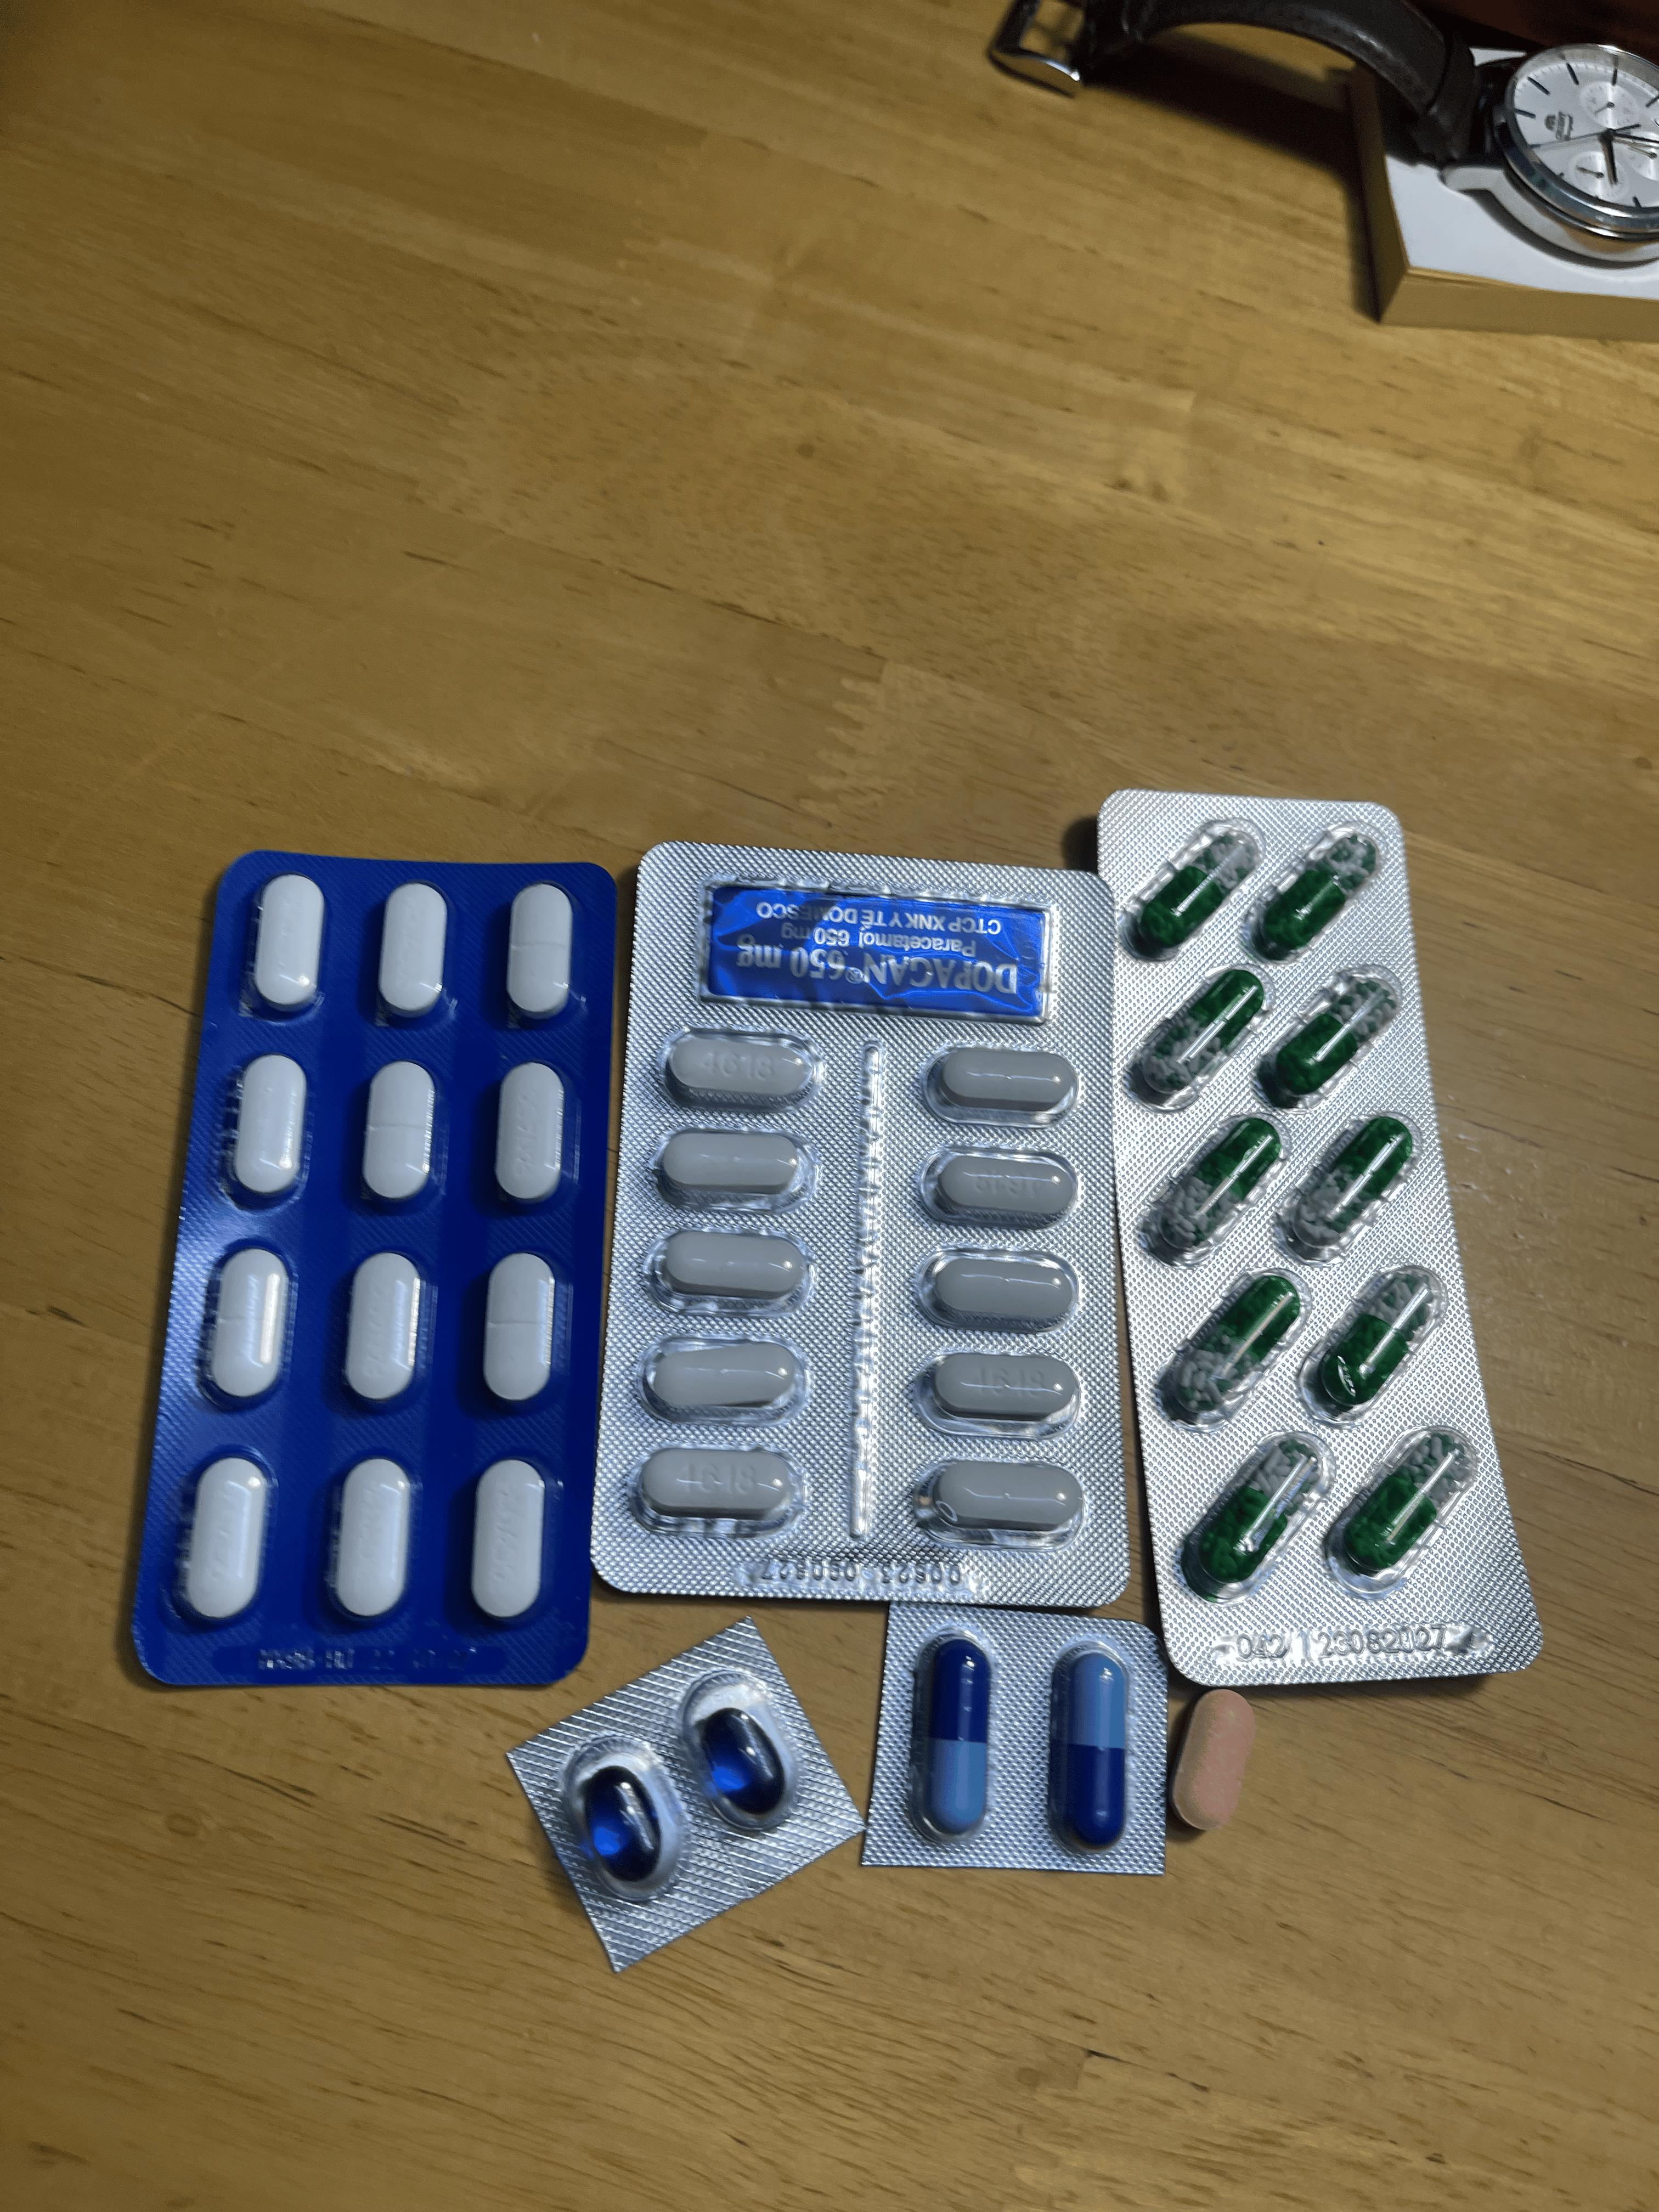Lincomyxin_500mg: (582, 1766, 664, 1878), (699, 1707, 786, 1811)
Loratadine_10mg: (1173, 1689, 1255, 1831)
Paracetamol_350mg: (179, 1454, 272, 1625), (328, 1456, 415, 1623), (202, 1245, 291, 1406), (343, 1252, 427, 1409), (469, 1458, 547, 1623), (481, 1252, 559, 1406), (228, 1054, 308, 1202), (361, 1061, 439, 1207), (493, 1062, 570, 1207), (251, 874, 326, 1015), (376, 883, 448, 1019), (507, 883, 575, 1021)
Paracetamol_500mg: (633, 1444, 805, 1533), (910, 1460, 1087, 1540), (643, 1336, 807, 1420), (915, 1249, 1080, 1331), (662, 1028, 824, 1109), (917, 1144, 1080, 1224), (913, 1352, 1084, 1428), (652, 1230, 814, 1308), (922, 1043, 1080, 1122), (653, 1130, 814, 1207)
Paracetamol_650mg: (1326, 1423, 1476, 1588), (1182, 1430, 1326, 1595), (1161, 1270, 1307, 1425), (1302, 1263, 1446, 1420), (1256, 965, 1403, 1111), (1143, 1113, 1284, 1261), (1121, 815, 1262, 961), (1127, 963, 1269, 1106), (1279, 1113, 1417, 1259), (1258, 829, 1382, 960)
pill: (920, 1637, 992, 1836), (1058, 1651, 1129, 1848)
